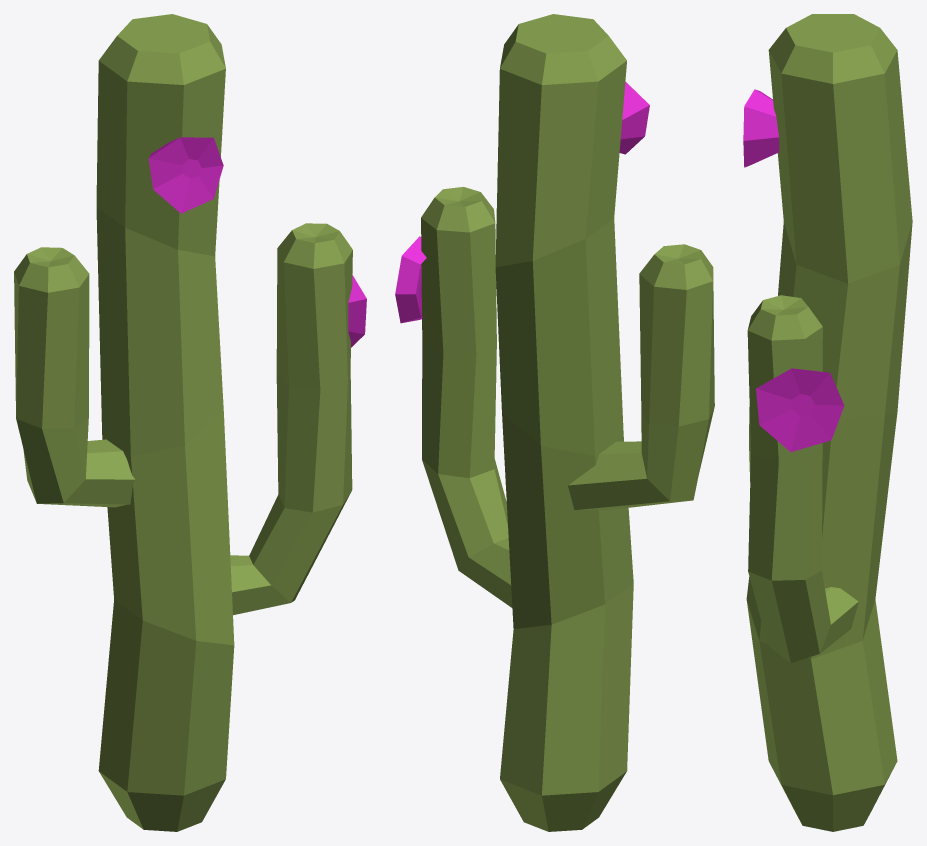
File: cactus01.fbx
3 renders of one model, left to right at view 1: azimuth 30°, elevation 25°; view 2: azimuth 150°, elevation 25°; view 3: azimuth 270°, elevation 25°, orthographic.
Visible parts, largest first — view 1: cactus_01; view 2: cactus_01; view 3: cactus_01.
Part boxes in pixels (x1,y1,x2,y2): cactus_01: (14, 14, 366, 831); cactus_01: (395, 14, 714, 831); cactus_01: (743, 14, 912, 831).
Bounding box in the file's own units: 1.49 × 0.697 × 3.56.
